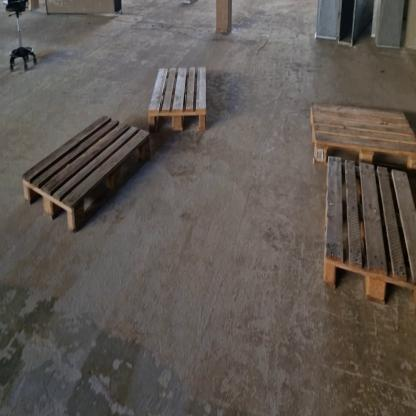BoxFace: (20, 106, 153, 241), (320, 153, 416, 318), (309, 100, 416, 181), (146, 60, 208, 140)
